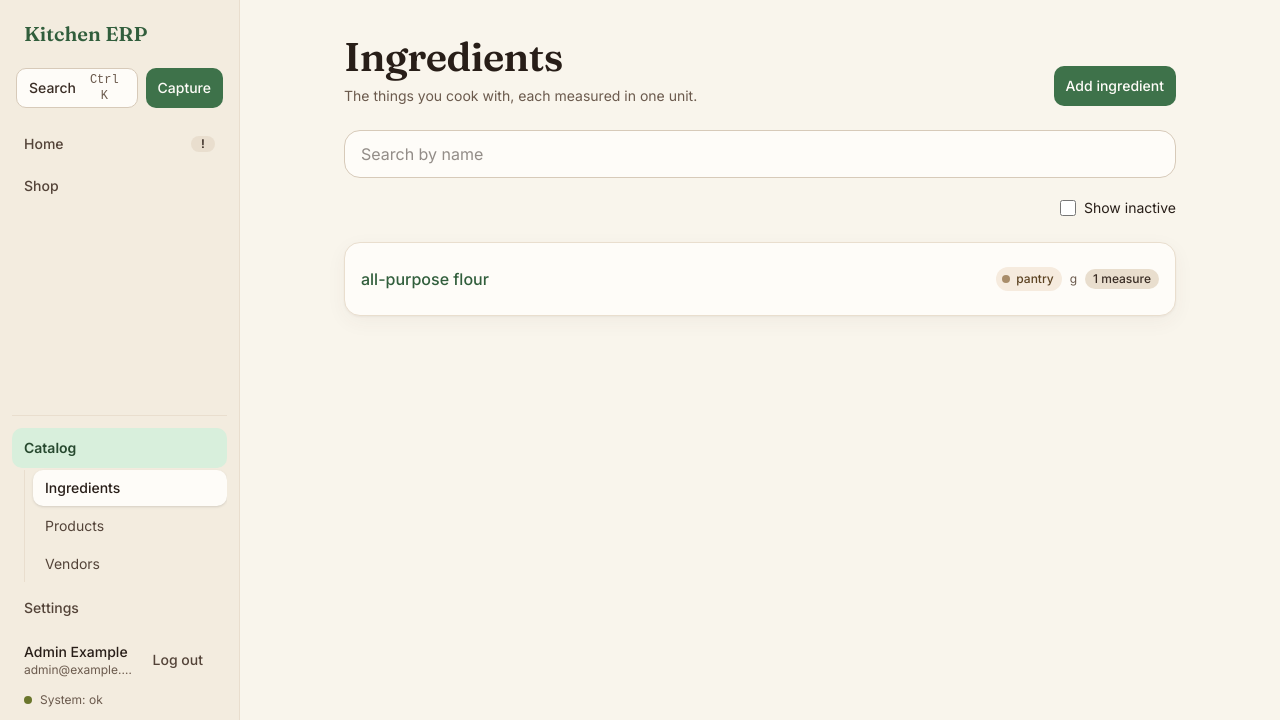
Test: ingredients › searches with a debounced q and can show inactive ingredients
The width and height of the screenshot is (1280, 720).
Expected: the link "all-purpose flour" is shown, 361,267 -> 489,291
Expected: the text "old flour" is not shown
Type "flour" into the field named "Search ingredients". click: coordinates (760, 154)
box: 344,130 -> 1176,178
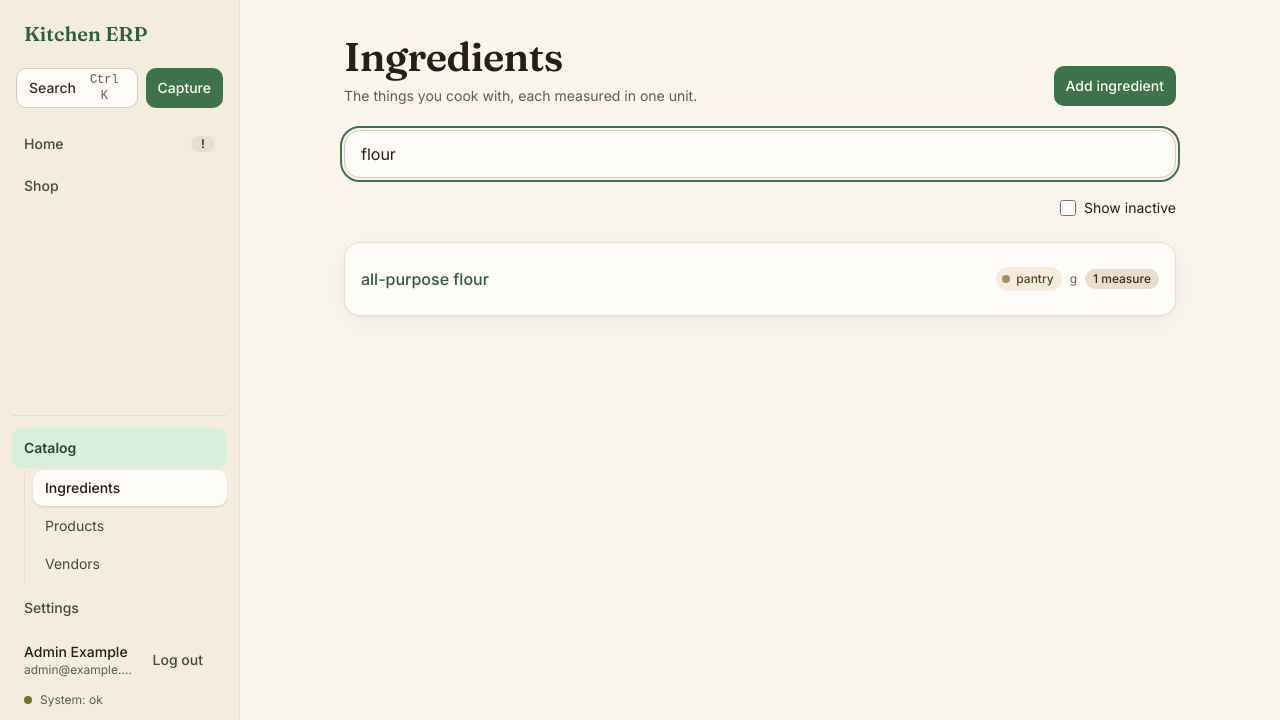
Click the checkbox labelled "Show inactive". click: coordinates (1068, 208)
box: 1060,200 -> 1076,216
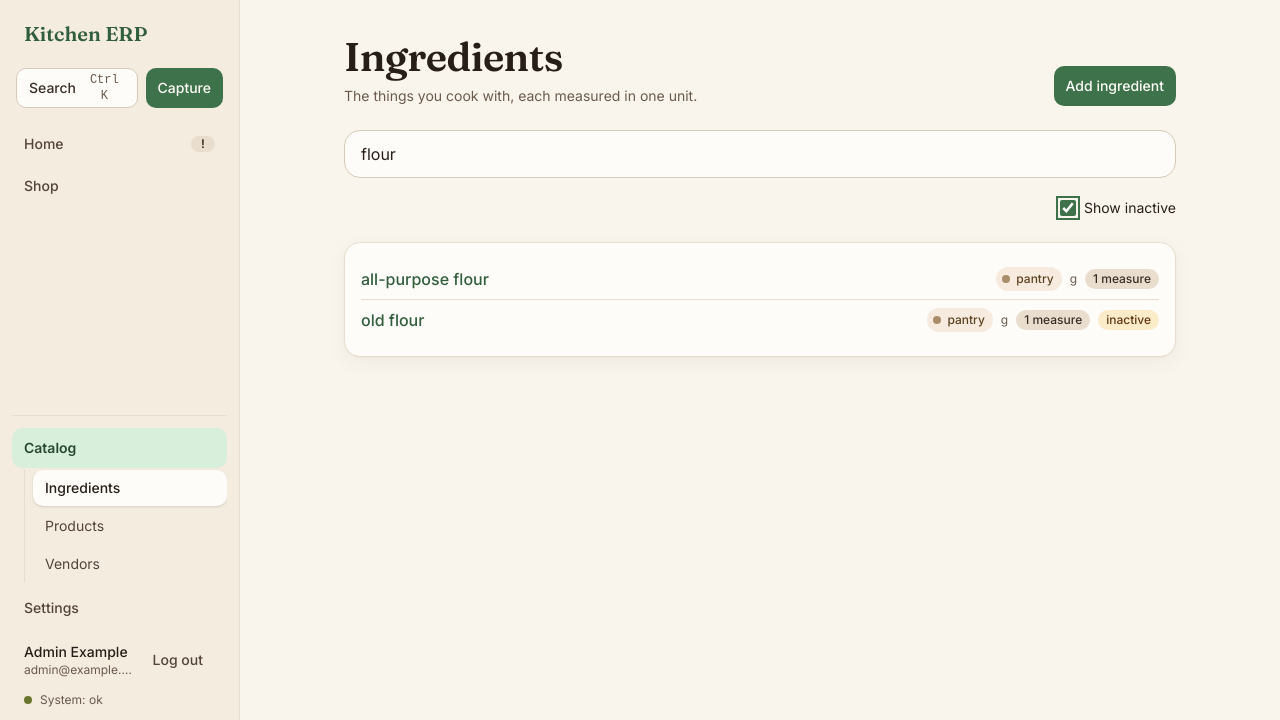
Result: the link "old flour" is shown at 361,308 -> 424,332
Result: the text "inactive" is shown at 1098,310 -> 1159,330
